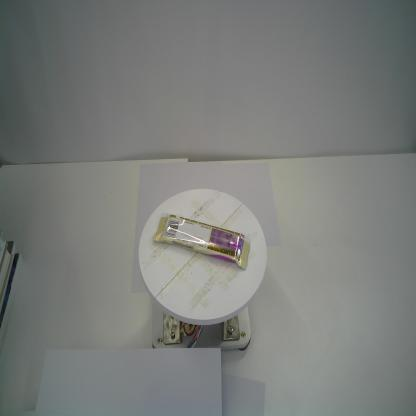Chocolate: (153, 211, 251, 272)
